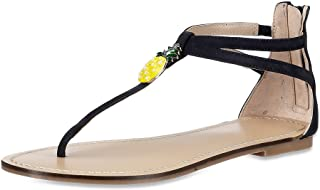shoes: (1, 1, 320, 185)
